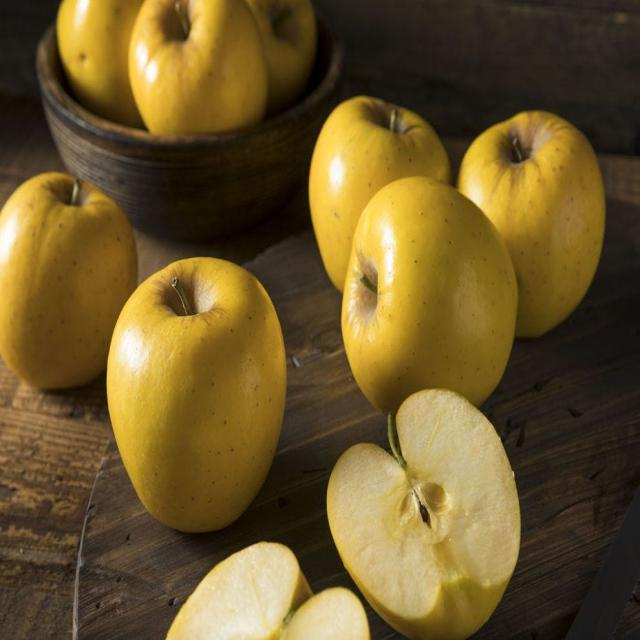apple: (103, 253, 289, 537), (326, 386, 524, 640), (341, 172, 520, 422), (457, 105, 608, 341), (2, 170, 145, 397), (301, 93, 457, 292), (156, 537, 374, 640), (127, 1, 273, 142), (54, 3, 140, 121), (245, 1, 321, 103)
